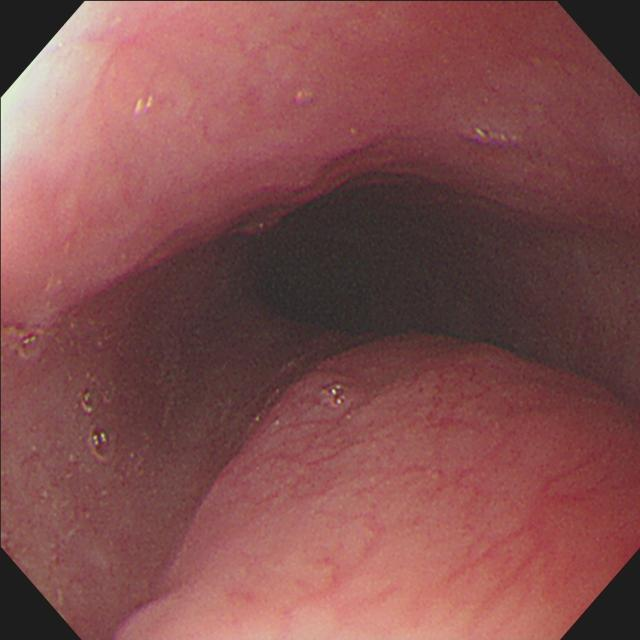T: (79, 385, 120, 466), (15, 329, 48, 361), (319, 380, 351, 411)
